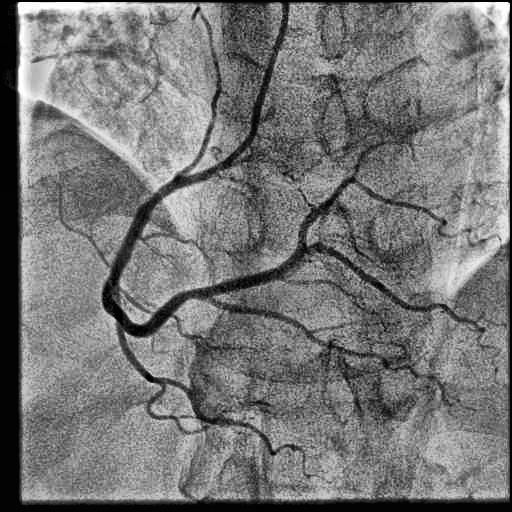pborca: (206, 242, 465, 322)
pda: (202, 295, 445, 391)
rca: (102, 162, 220, 337)
